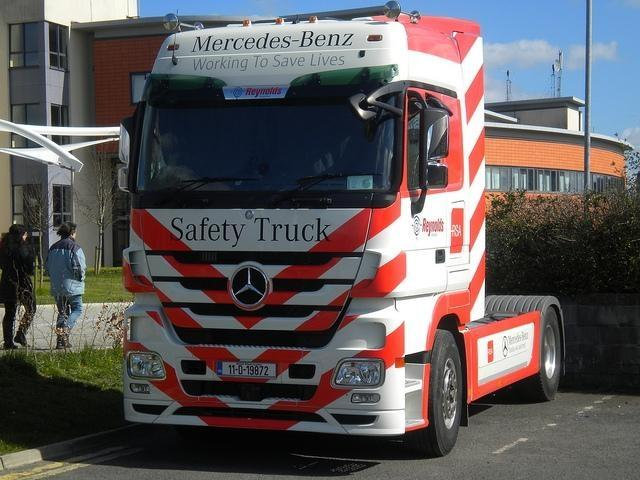truck: (118, 0, 566, 457)
